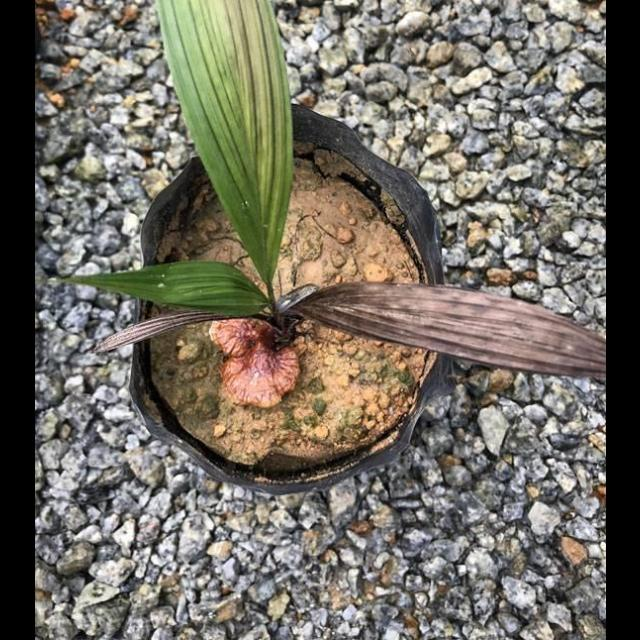ganoderma: (208, 317, 306, 412)
